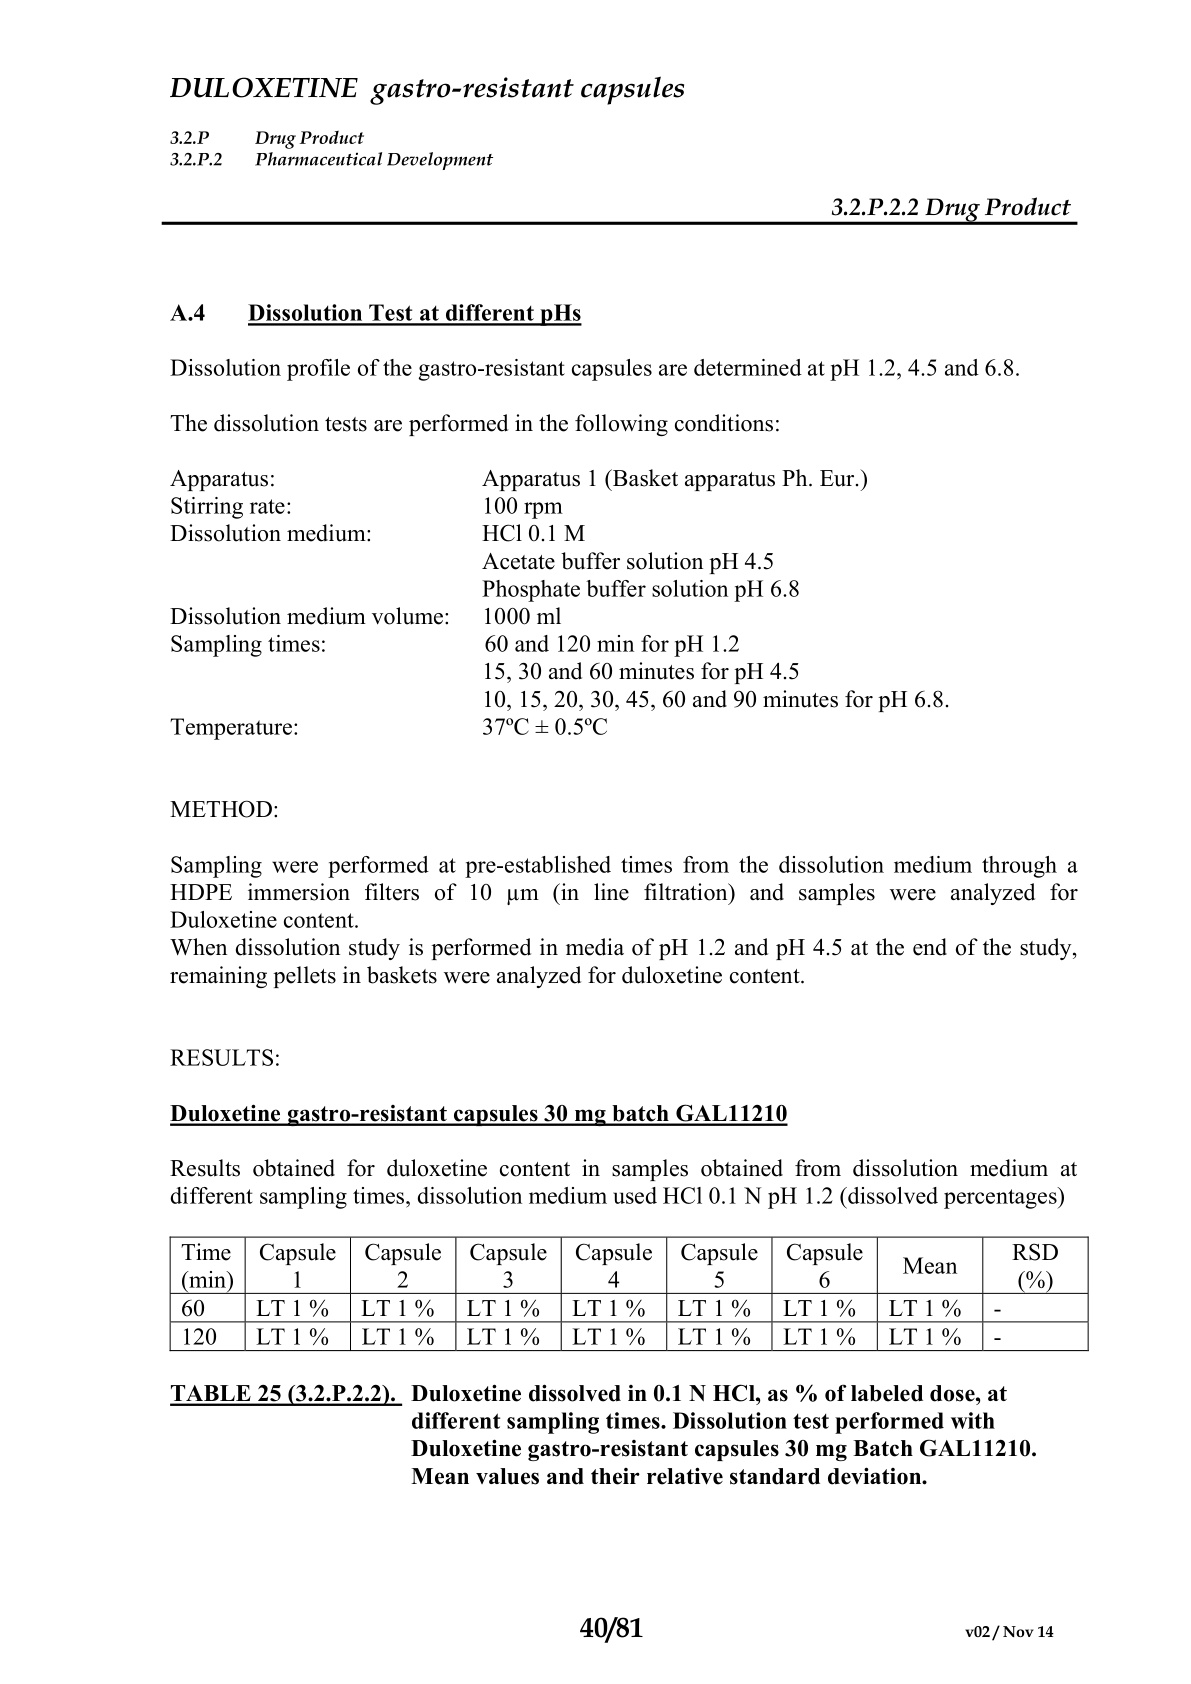full_lined: (169, 1236, 1089, 1352)
nolines: (169, 464, 953, 740)
